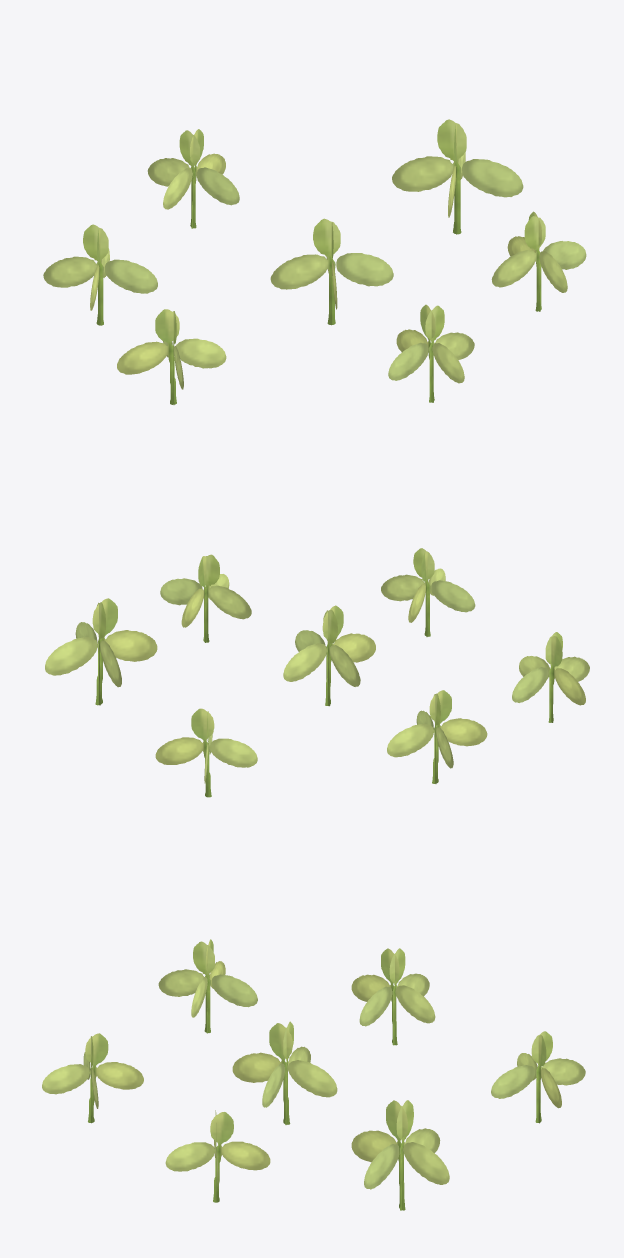
The model's file is crop_radish_1.glb.
The picture shows the model from 3 angles, top to bottom: view 1: azimuth 30°, elevation 25°; view 2: azimuth 150°, elevation 25°; view 3: azimuth 270°, elevation 25°; orthographic projection. The views are drawn at different scales.
Visible parts, largest first — view 1: crop_radish_1; view 2: crop_radish_1; view 3: crop_radish_1.
Part boxes in pixels (<box>): crop_radish_1: <box>43,119,586,404</box>; crop_radish_1: <box>45,548,589,797</box>; crop_radish_1: <box>42,939,585,1210</box>.
Bounding box in the file's own units: 0.67 × 0.2209 × 0.7019.
1 material, 1 textured.
